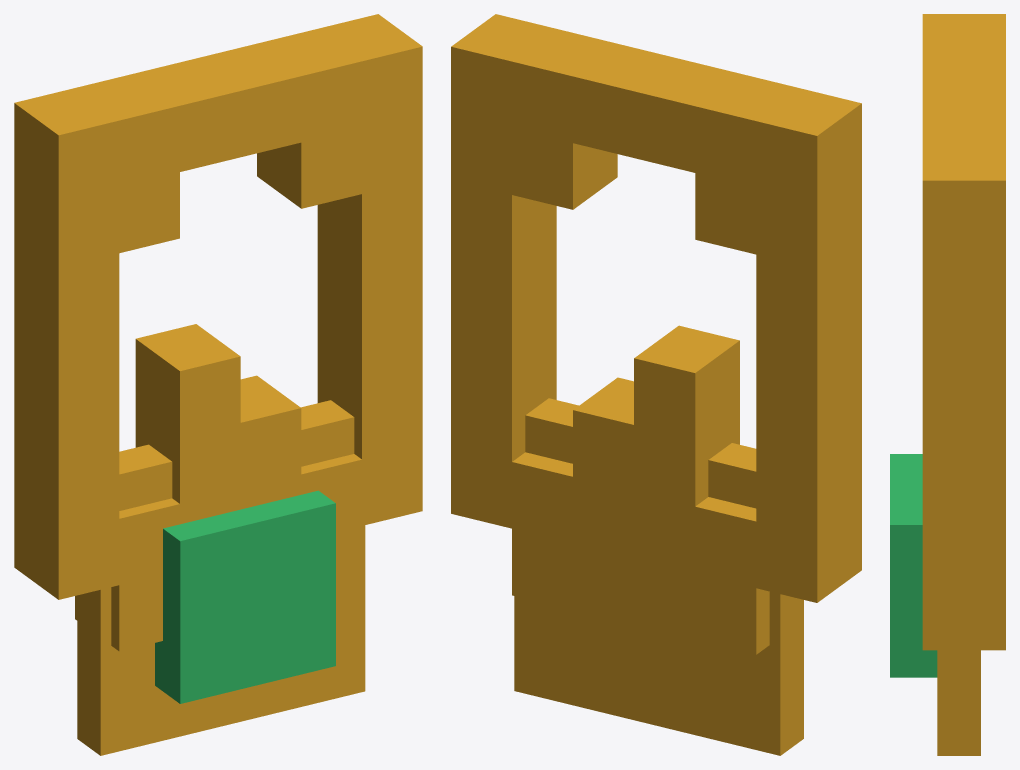
The model's file is amulet-pixor-blocky.glb.
3 views of the same model, side by side, from view 1: azimuth 30°, elevation 25°; view 2: azimuth 150°, elevation 25°; view 3: azimuth 270°, elevation 25° (orthographic). The views are drawn at different scales.
Visible parts, largest first — view 1: Amulet chain, Amulet gem, Amulet pendant; view 2: Amulet chain, Amulet pendant; view 3: Amulet chain, Amulet gem, Amulet pendant.
Part boxes in pixels (<box>): Amulet chain: <box>14,14,422,651</box>; Amulet gem: <box>155,490,335,703</box>; Amulet pendant: <box>77,400,365,755</box>; Amulet chain: <box>451,14,861,654</box>; Amulet pendant: <box>514,398,803,755</box>; Amulet chain: <box>922,14,1005,650</box>; Amulet gem: <box>890,454,937,677</box>; Amulet pendant: <box>937,616,980,755</box>.
Bounding box in the file's own units: 0.234 × 0.392 × 0.0687.
